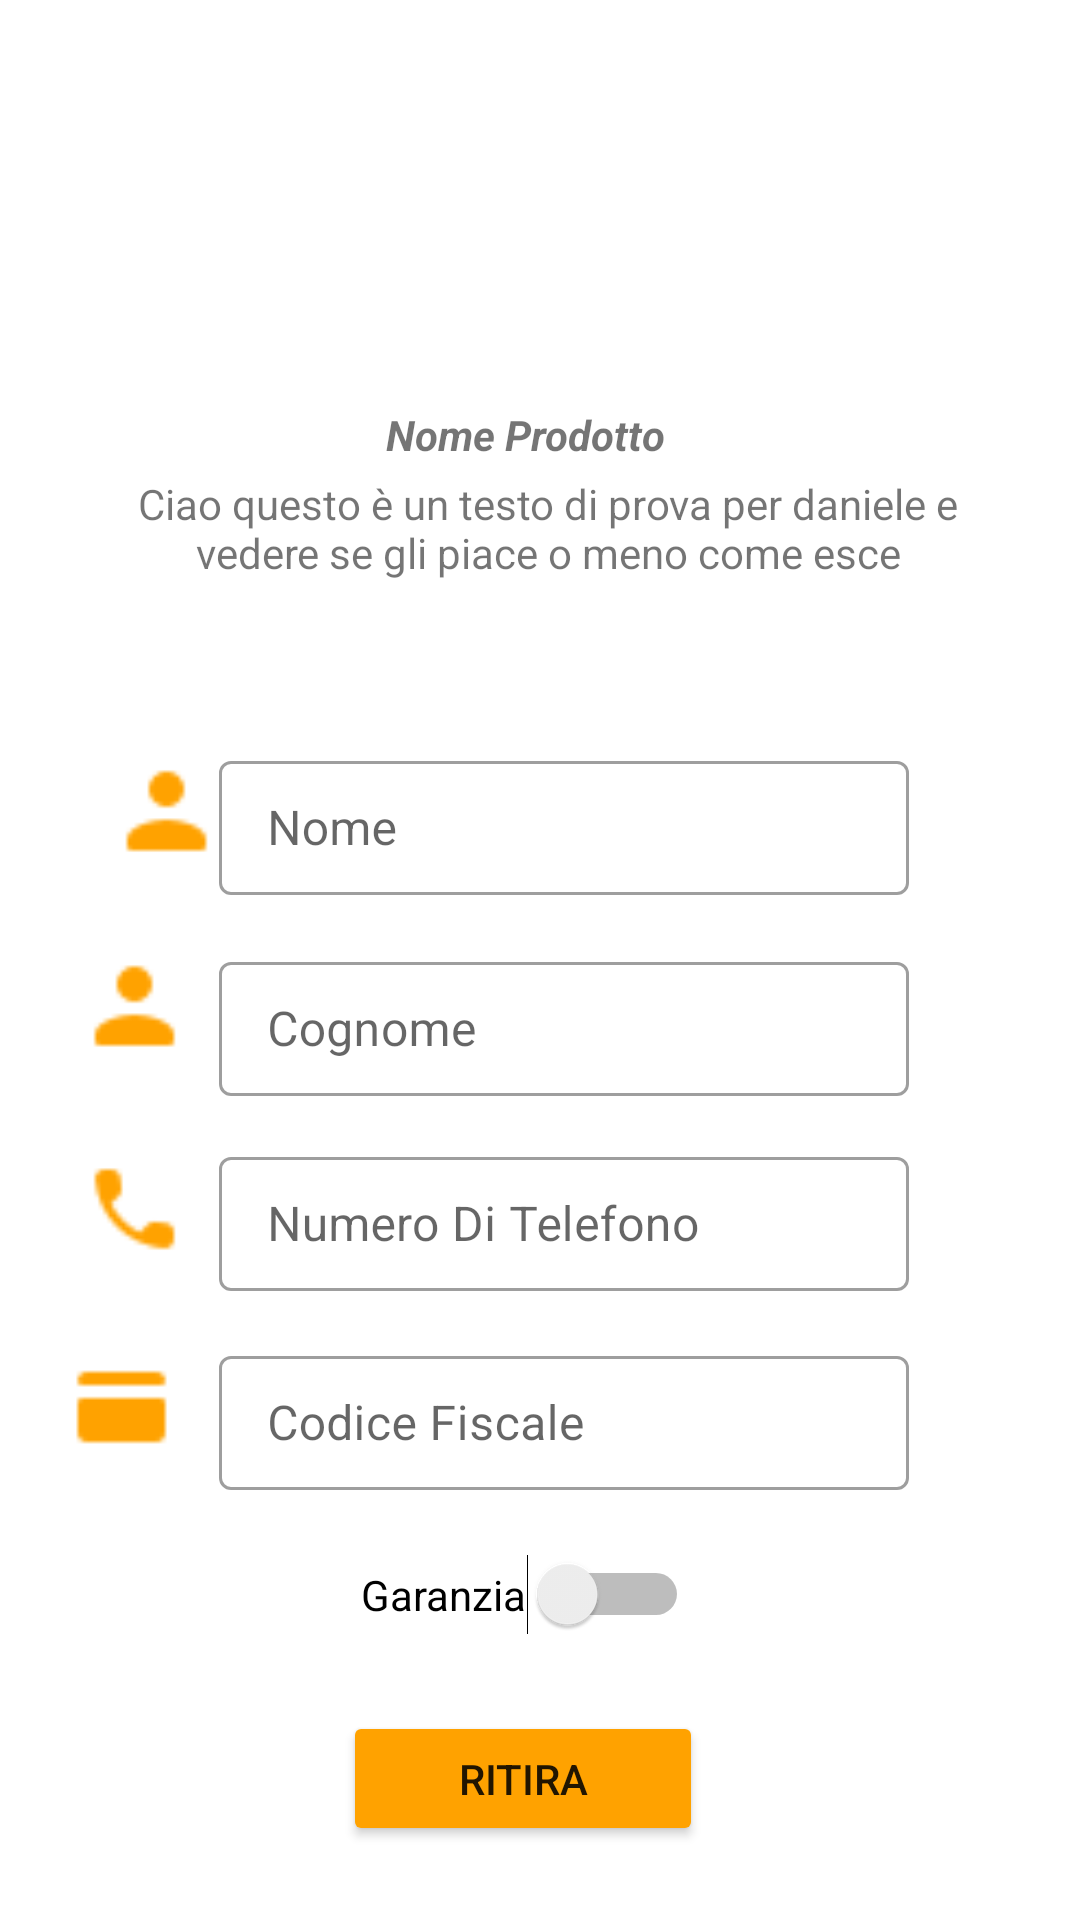

Screen size 1080*1920. Icon name, then its box in pixels as {"x1": x1, "y1": y1, "x2": x2, "y2": y2}:
card: {"x1": 76, "y1": 1370, "x2": 167, "y2": 1444}
icona utente: {"x1": 125, "y1": 770, "x2": 208, "y2": 852}, {"x1": 93, "y1": 965, "x2": 176, "y2": 1047}
phone: {"x1": 93, "y1": 1168, "x2": 176, "y2": 1250}
